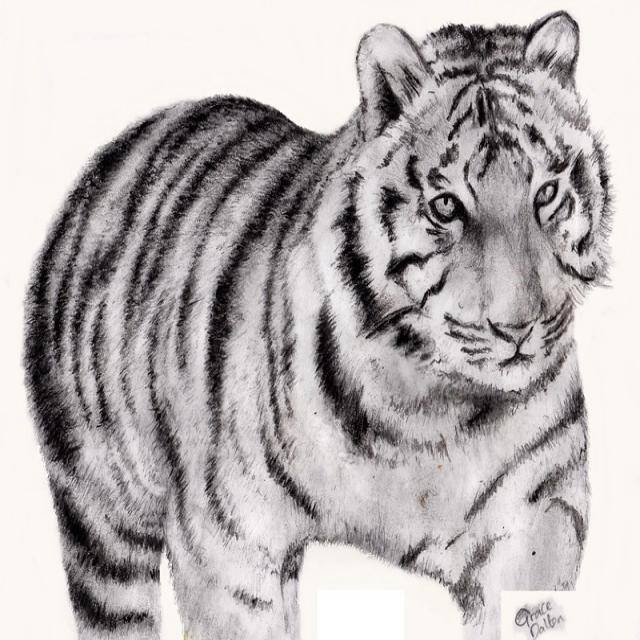Tiger: (21, 7, 615, 639)
